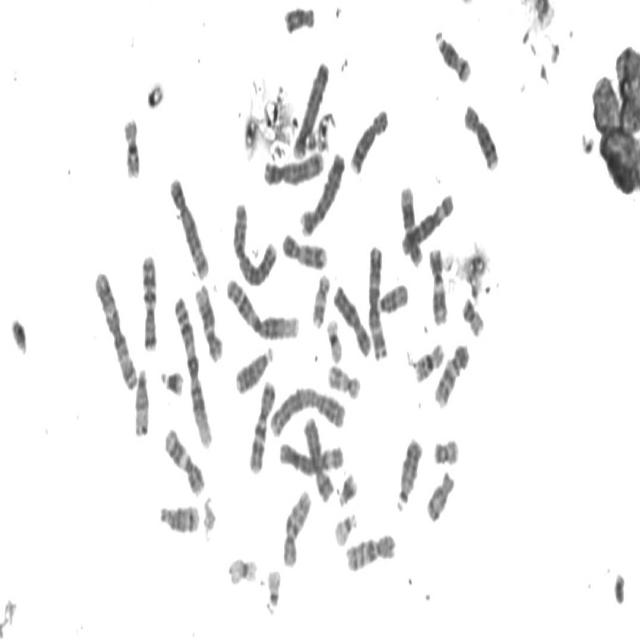A1: (172, 290, 214, 450), (223, 270, 302, 342)
A2: (267, 378, 349, 437), (230, 195, 280, 288)
A3: (92, 263, 140, 391), (365, 236, 390, 362)
B4: (297, 144, 347, 238), (290, 54, 332, 160)
B5: (167, 170, 212, 280), (261, 145, 326, 187)
C10: (280, 481, 314, 569), (342, 525, 398, 574)
C11: (162, 420, 207, 498), (426, 240, 450, 327)
C12: (192, 276, 225, 364), (397, 178, 425, 268)
C6: (398, 186, 456, 256), (276, 434, 346, 478)
C7: (246, 372, 278, 474), (139, 247, 160, 354)
C8: (348, 101, 392, 175), (461, 96, 501, 172)
C9: (432, 335, 472, 409), (279, 224, 330, 270)
D13: (394, 429, 424, 513), (233, 340, 275, 396)
D14: (432, 23, 474, 84), (157, 495, 202, 535)
D15: (132, 360, 152, 440), (375, 275, 410, 316)
E16: (412, 334, 446, 385), (120, 110, 143, 180)
E17: (325, 357, 363, 401), (310, 266, 332, 330)
E18: (423, 463, 457, 524), (281, 0, 317, 36)
F19: (226, 549, 260, 587), (324, 311, 345, 364)
F20: (459, 290, 487, 338), (431, 431, 462, 467)
G21: (335, 466, 360, 508), (158, 362, 186, 398)
G22: (331, 505, 359, 548), (263, 560, 283, 615)
X: (331, 278, 373, 358), (301, 410, 336, 503)
